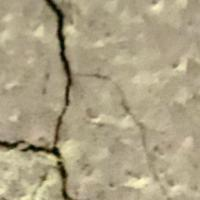crack: (0, 0, 94, 199)
